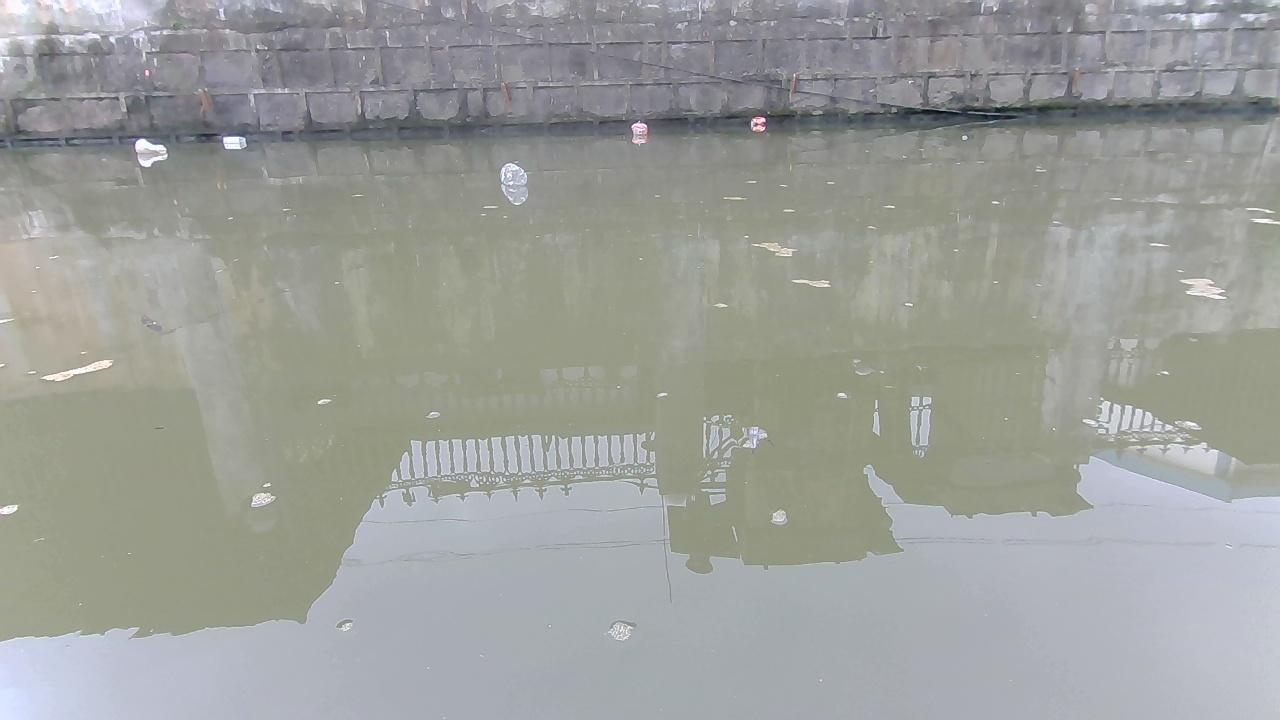bottle: (131, 138, 169, 162), (496, 160, 529, 186), (626, 121, 647, 141), (221, 135, 245, 149), (749, 114, 767, 130)
